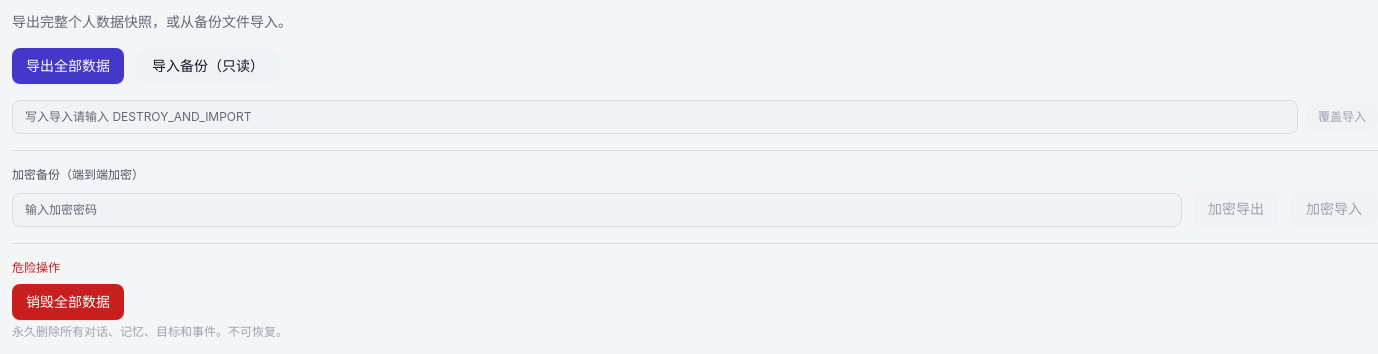
it: DataSovereigntyCard › writes 已导出 beside 加密导出 and keeps the password
The image size is (1378, 354).
Type "secret" into the field with placeholder "输入加密密码".
click(597, 210); type("secret")  # box [12,193,1182,227]
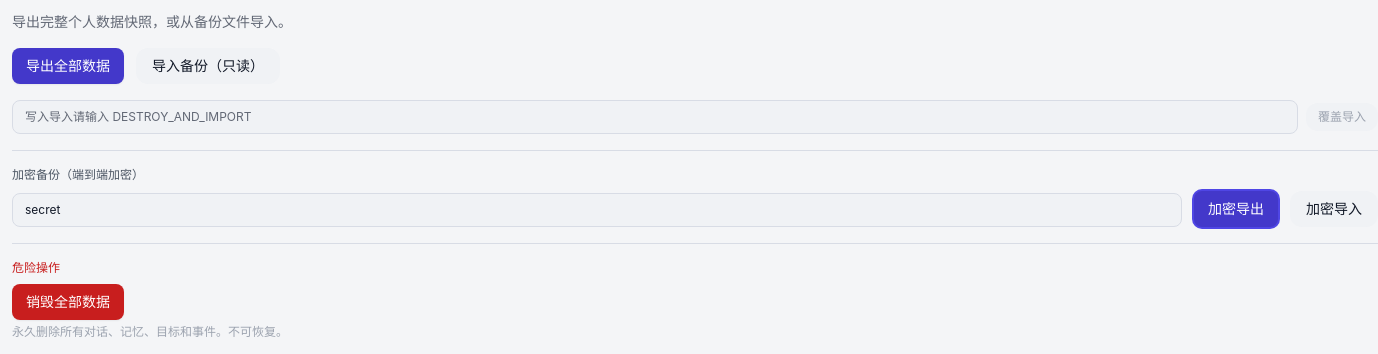
Click the button "加密导出".
click(1236, 209)  # box [1194,191,1278,227]
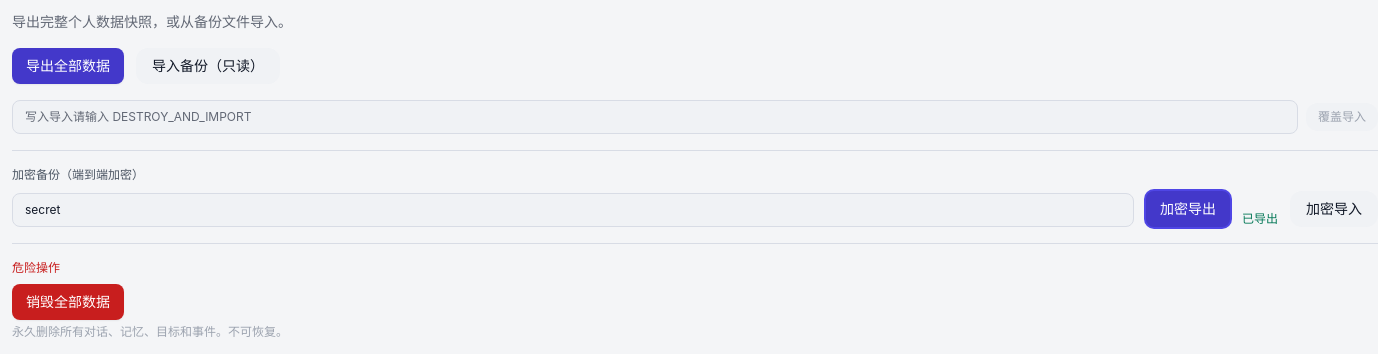
Expected: the button "加密导出" is enabled, [1146,191,1230,227]
Expected: the message with test id "encrypt-export-notice" reads "已导出", [1242,211,1278,226]
